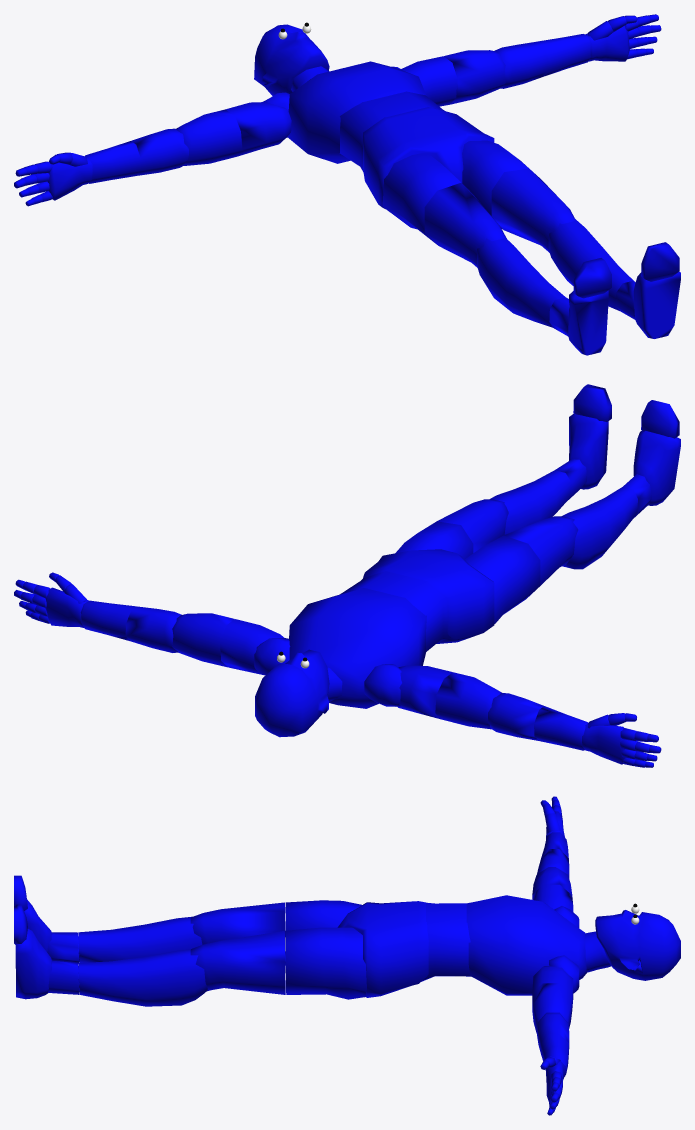
The model's file is blueguy_eyes.dae.
3 renders of one model, top to bottom at view 1: azimuth 30°, elevation 25°; view 2: azimuth 150°, elevation 25°; view 3: azimuth 270°, elevation 25°, orthographic. The views are drawn at different scales.
Visible parts, largest first — view 1: vl3, HumanoidRoot, r_knee, l_thigh_roll, r_thigh_roll, r_hip, skullbase, l_knee, vt10, r_upperarm_roll, l_hip, l_ankle (+14 smaller); view 2: vl3, HumanoidRoot, skullbase, r_hip, r_knee, l_knee, vt10, r_upperarm_roll, r_ankle, r_thigh_roll, l_upperarm_roll, l_ankle (+16 smaller); view 3: vl3, HumanoidRoot, l_knee, l_hip, l_thigh_roll, skullbase, r_knee, vt10, r_thigh_roll, l_ankle, r_hip, l_upperarm_roll (+12 smaller).
Boxes of the visible parts, x1,y1,x2,y2 form: vl3: [287, 61, 426, 163]; HumanoidRoot: [363, 107, 494, 208]; r_knee: [477, 237, 565, 327]; l_thigh_roll: [491, 168, 574, 252]; r_thigh_roll: [424, 182, 506, 267]; r_hip: [382, 153, 460, 244]; skullbase: [254, 24, 329, 95]; l_knee: [548, 217, 633, 310]; vt10: [339, 91, 445, 171]; r_upperarm_roll: [176, 109, 242, 165]; l_hip: [462, 140, 535, 229]; l_ankle: [633, 271, 680, 338]; vl3: [289, 588, 426, 708]; HumanoidRoot: [363, 549, 494, 643]; skullbase: [255, 649, 329, 737]; r_hip: [465, 535, 540, 623]; r_knee: [562, 487, 637, 569]; l_knee: [490, 470, 571, 534]; vt10: [340, 571, 450, 651]; r_upperarm_roll: [435, 672, 501, 729]; r_ankle: [633, 430, 680, 505]; r_thigh_roll: [504, 516, 578, 596]; l_upperarm_roll: [172, 613, 234, 667]; l_ankle: [569, 414, 608, 489]; vl3: [466, 895, 587, 995]; HumanoidRoot: [337, 901, 428, 997]; l_knee: [78, 949, 207, 1006]; l_hip: [285, 927, 366, 999]; l_thigh_roll: [190, 930, 285, 994]; skullbase: [595, 910, 680, 980]; r_knee: [78, 916, 202, 962]; vt10: [421, 902, 470, 981]; r_thigh_roll: [190, 902, 285, 965]; l_ankle: [15, 929, 52, 999]; r_hip: [285, 900, 362, 930]; l_upperarm_roll: [532, 983, 572, 1033].
Bounding box in the file's own units: 1.84 × 1.77 × 0.2714.
